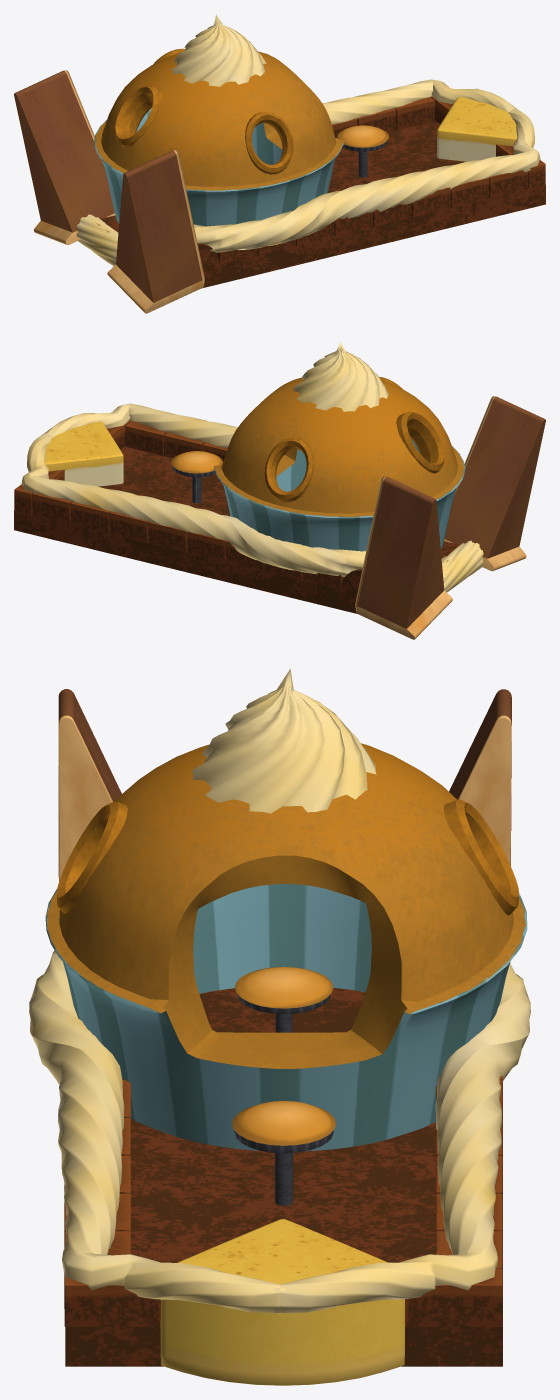
The model's file is Dessert_cart.fbx.
3 renders of one model, top to bottom at view 1: azimuth 30°, elevation 25°; view 2: azimuth 150°, elevation 25°; view 3: azimuth 270°, elevation 25°, orthographic. The views are drawn at different scales.
Parts seen in each view (by area): view 1: Cupcake, Cream, Base_Choco_Square, Pie_L, Pie_R, Choco_Border, Cheese_Cake, Pie_Stool_FR; view 2: Cupcake, Cream, Base_Choco_Square, Pie_R, Pie_L, Choco_Border, Cheese_Cake, Pie_Stool_FR; view 3: Cupcake, Cream, Base_Choco_Square, Cheese_Cake, Choco_Border, Pie_R, Pie_L, Pie_Stool_FR, Pie_Stool_IN.
Boxes of the visible parts, <box> form: Cupcake: <box>94,14,344,226</box>; Cream: <box>76,79,540,266</box>; Base_Choco_Square: <box>100,120,545,288</box>; Pie_L: <box>14,70,115,244</box>; Pie_R: <box>107,150,204,313</box>; Choco_Border: <box>216,96,545,264</box>; Cheese_Cake: <box>437,97,517,161</box>; Pie_Stool_FR: <box>337,125,388,177</box>; Cupcake: <box>214,342,465,551</box>; Cream: <box>21,403,483,592</box>; Base_Choco_Square: <box>14,446,459,613</box>; Pie_R: <box>444,396,545,571</box>; Pie_L: <box>355,476,452,639</box>; Choco_Border: <box>14,420,344,589</box>; Cheese_Cake: <box>44,421,123,486</box>; Pie_Stool_FR: <box>171,451,222,503</box>; Cupcake: <box>45,668,527,1151</box>; Cream: <box>29,950,530,1313</box>; Base_Choco_Square: <box>65,988,502,1366</box>; Cheese_Cake: <box>160,1219,404,1385</box>; Choco_Border: <box>64,1075,502,1326</box>; Pie_R: <box>58,689,121,881</box>; Pie_L: <box>449,689,511,865</box>; Pie_Stool_FR: <box>232,1101,335,1205</box>; Pie_Stool_IN: <box>234,967,333,1032</box>.
Bounding box in the file's own units: 273 × 132 × 132.
Materials: 1 (1 with a texture image).
